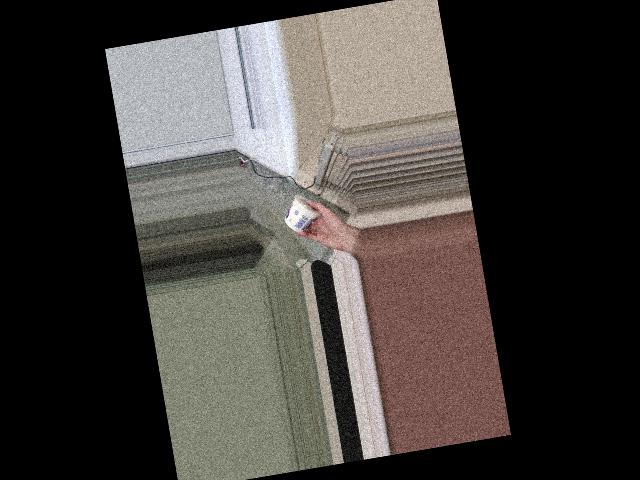cotage: (280, 190, 324, 236)
